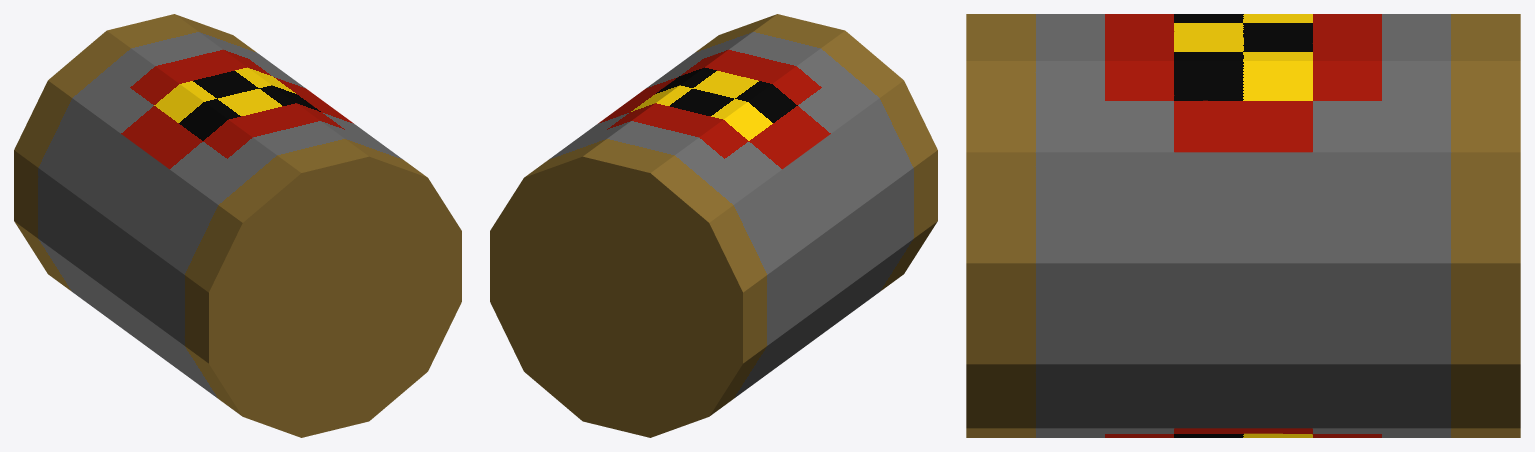
The model's file is bomb.fbx.
3 views of the same model, side by side, from view 1: azimuth 30°, elevation 25°; view 2: azimuth 150°, elevation 25°; view 3: azimuth 270°, elevation 25° (orthographic). The views are drawn at different scales.
Visible parts, largest first — view 1: cylinder; view 2: cylinder; view 3: cylinder.
Part boxes in pixels (x1,y1,x2,y2): cylinder: (14,14,461,437); cylinder: (490,14,937,437); cylinder: (966,14,1520,437).
Bounding box in the file's own units: 37.5 × 37.5 × 50.
1 material, 1 textured.
